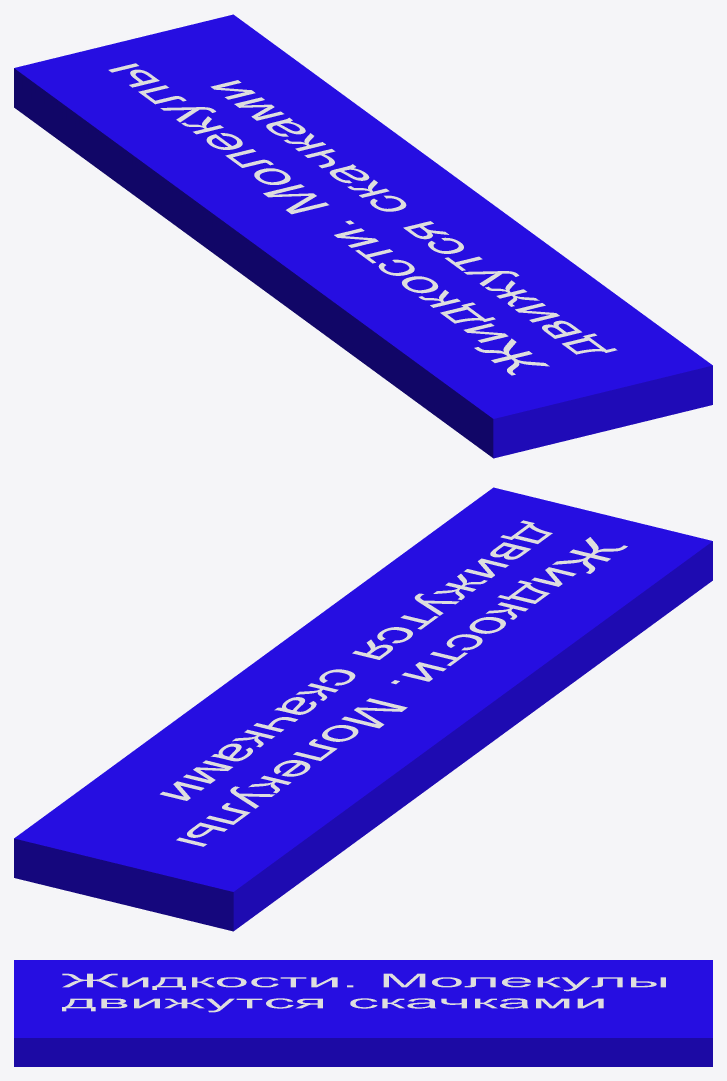
3 views of the same model, one above another, from view 1: azimuth 30°, elevation 25°; view 2: azimuth 150°, elevation 25°; view 3: azimuth 270°, elevation 25° (orthographic). The views are drawn at different scales.
Visible parts, largest first — view 1: Box001; view 2: Box001; view 3: Box001.
Part boxes in pixels (left/top/right/bottom): Box001: left=14, top=14, right=712, bottom=458; Box001: left=14, top=487, right=712, bottom=931; Box001: left=14, top=960, right=712, bottom=1066.
Bounding box in the file's own units: 15.84 × 3.17 × 59.93.
